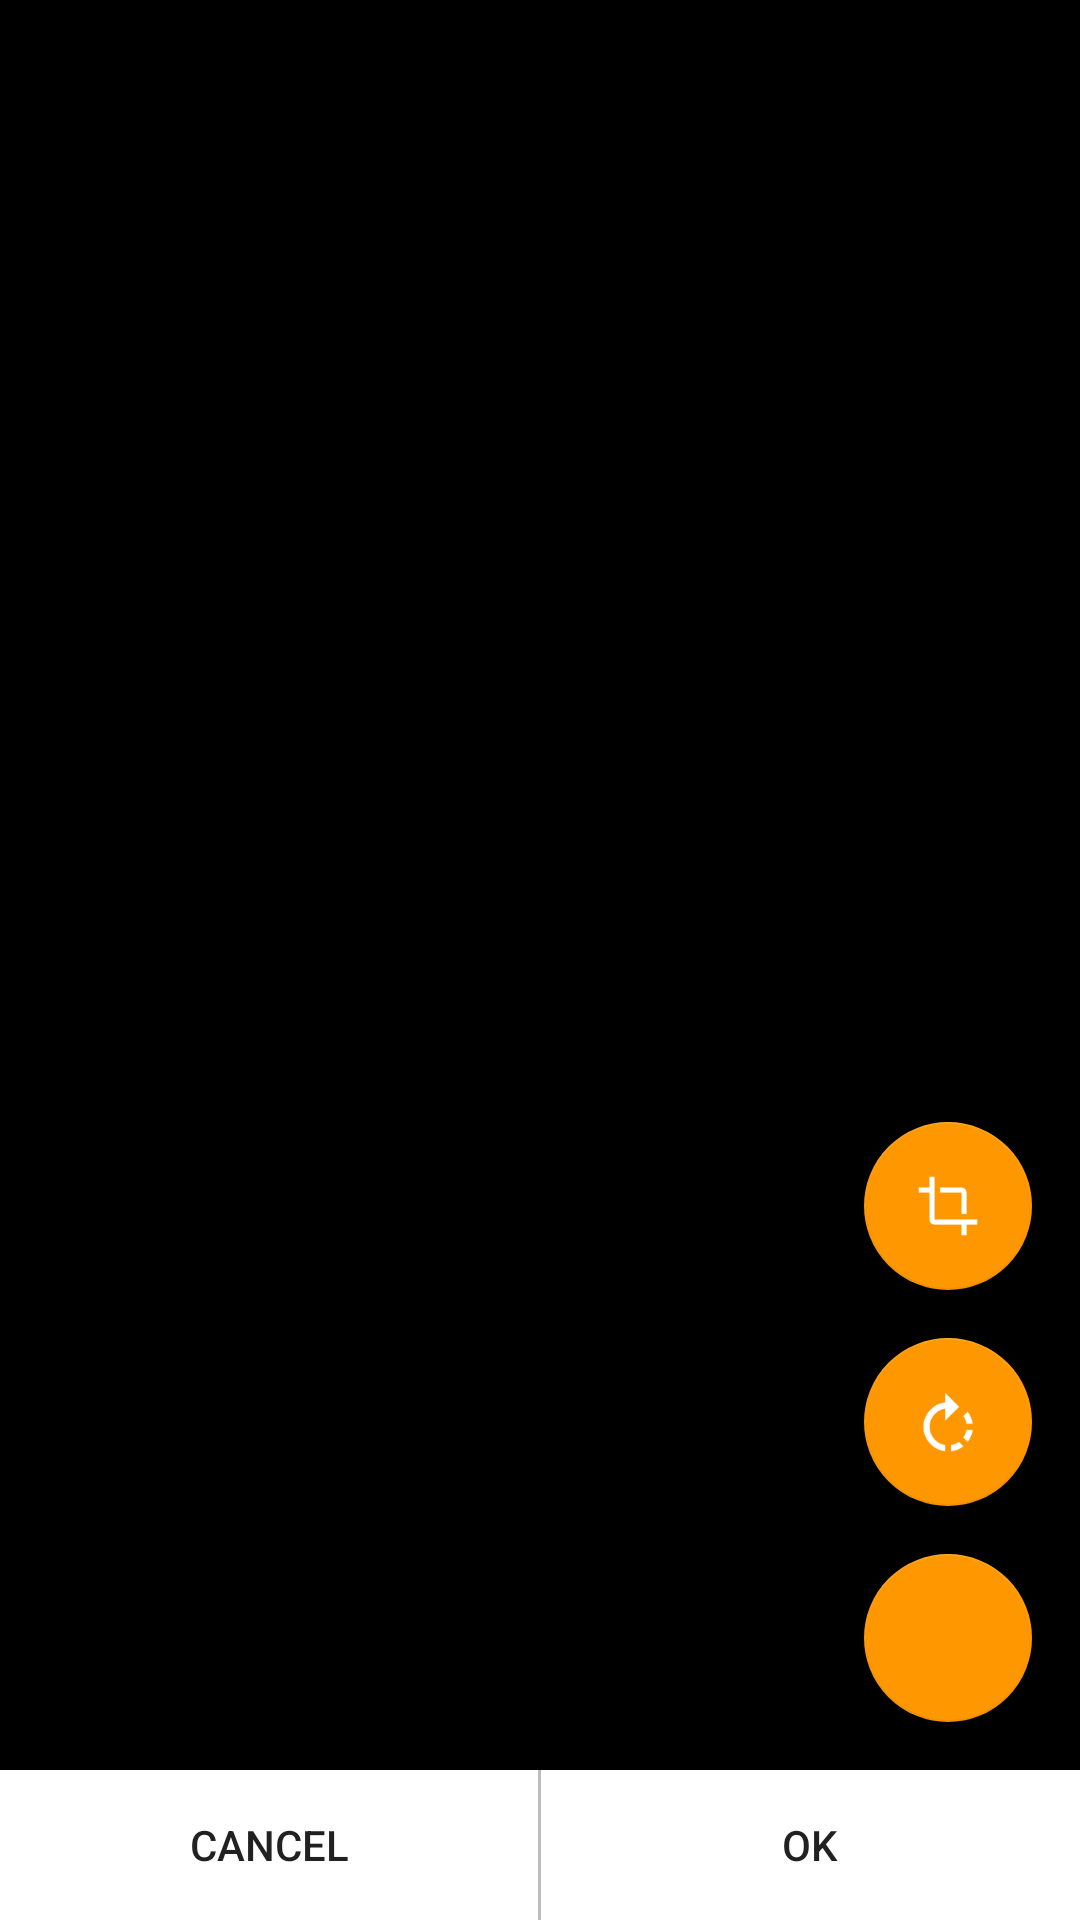

Named icons in this screenshot (1080*1920) and their bounding boxes, rect(x1, y1, x2, y2):
crop: rect(864, 1122, 1032, 1290)
rotate: rect(864, 1338, 1032, 1506)
